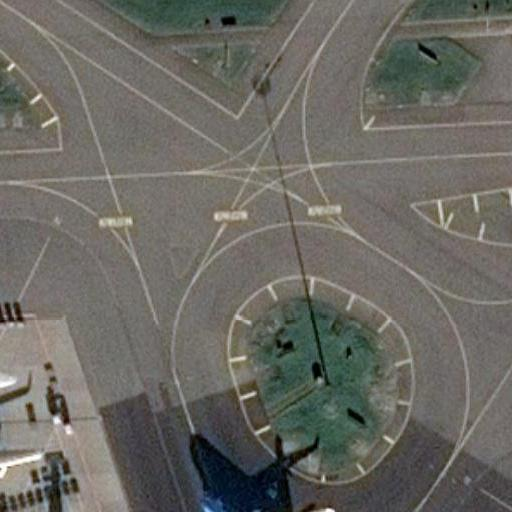Aircraft: (0, 347, 44, 512), (193, 487, 340, 512)
